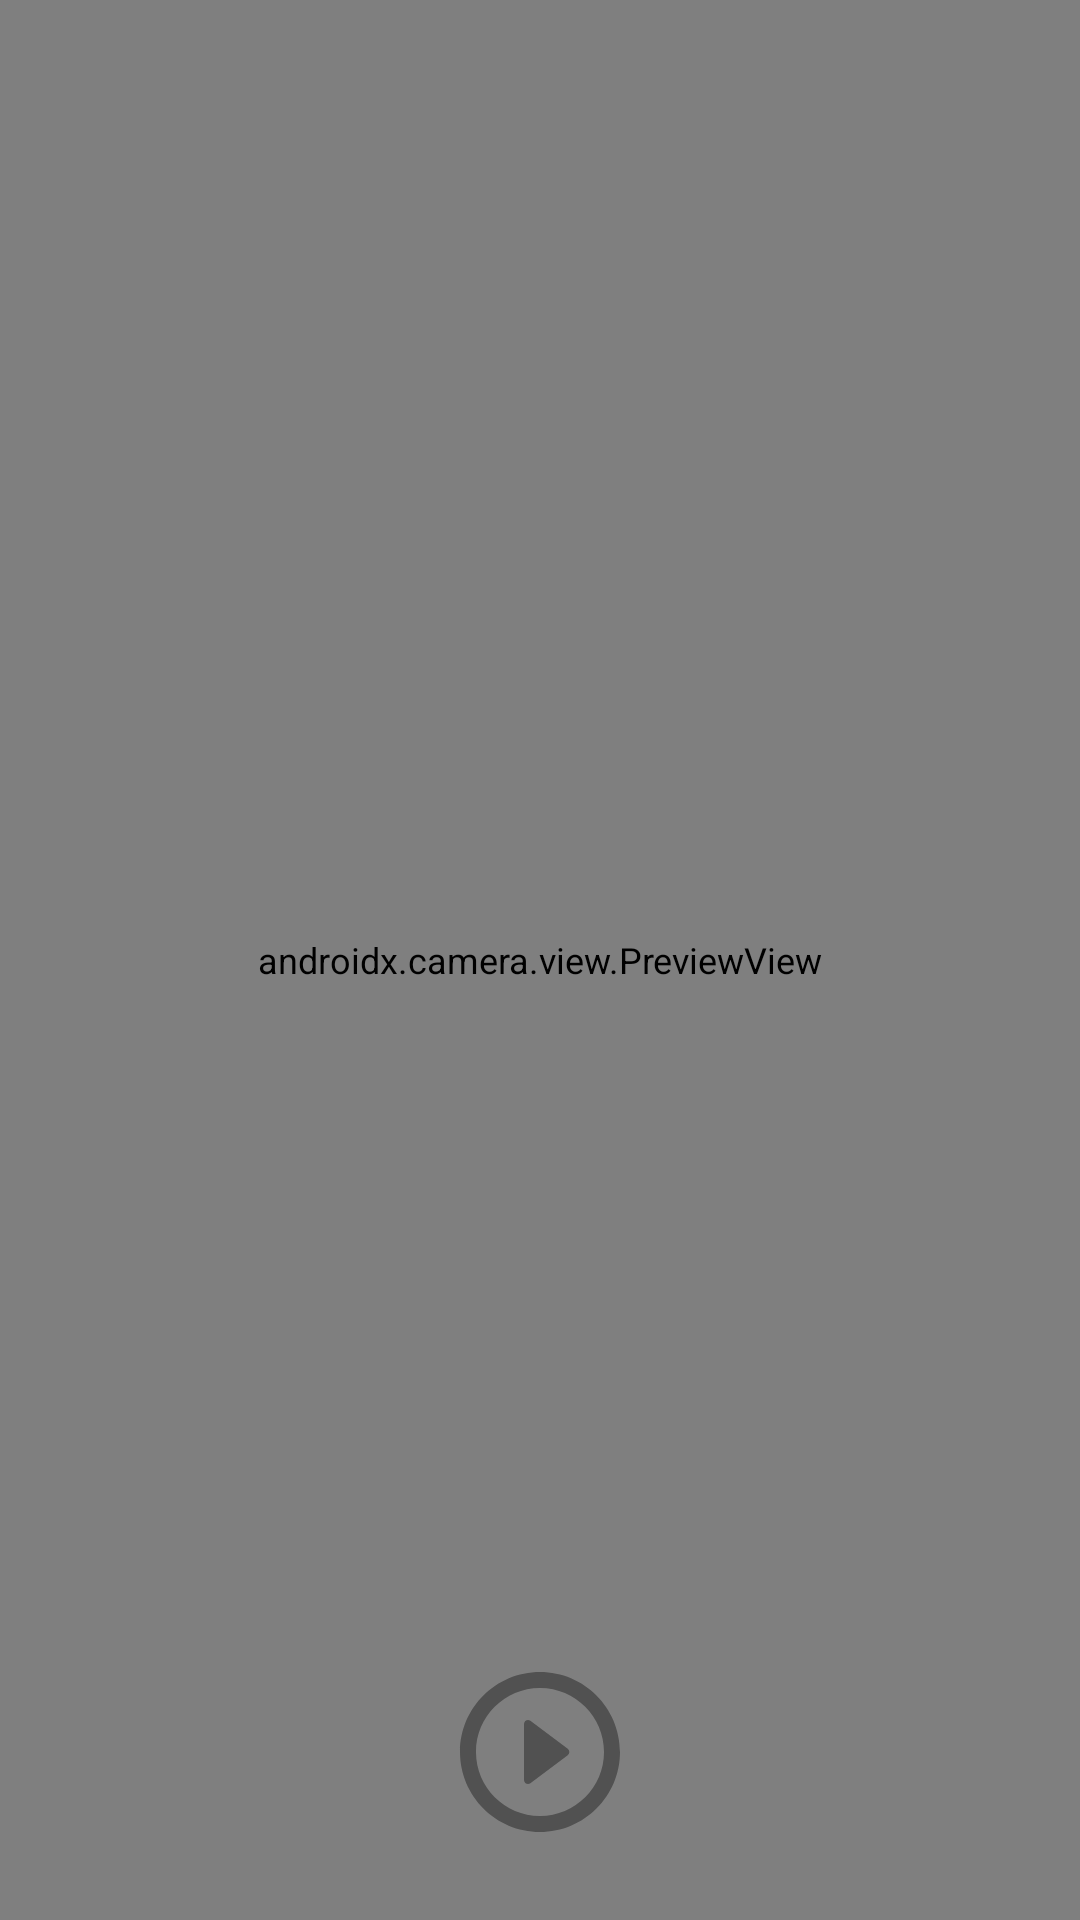

Where icons sit on this 1080x1920 app screen, as region(x1, y1, x2, y2):
play circle: region(460, 1672, 620, 1832)
